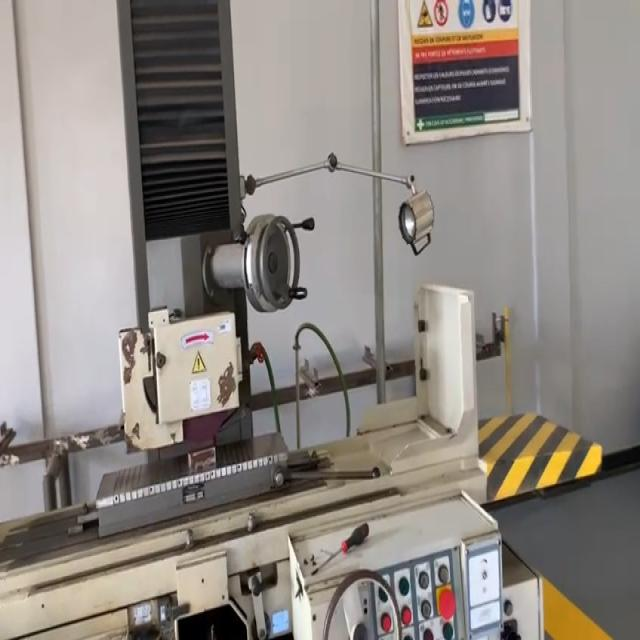fraiseuse: (0, 0, 601, 639)
